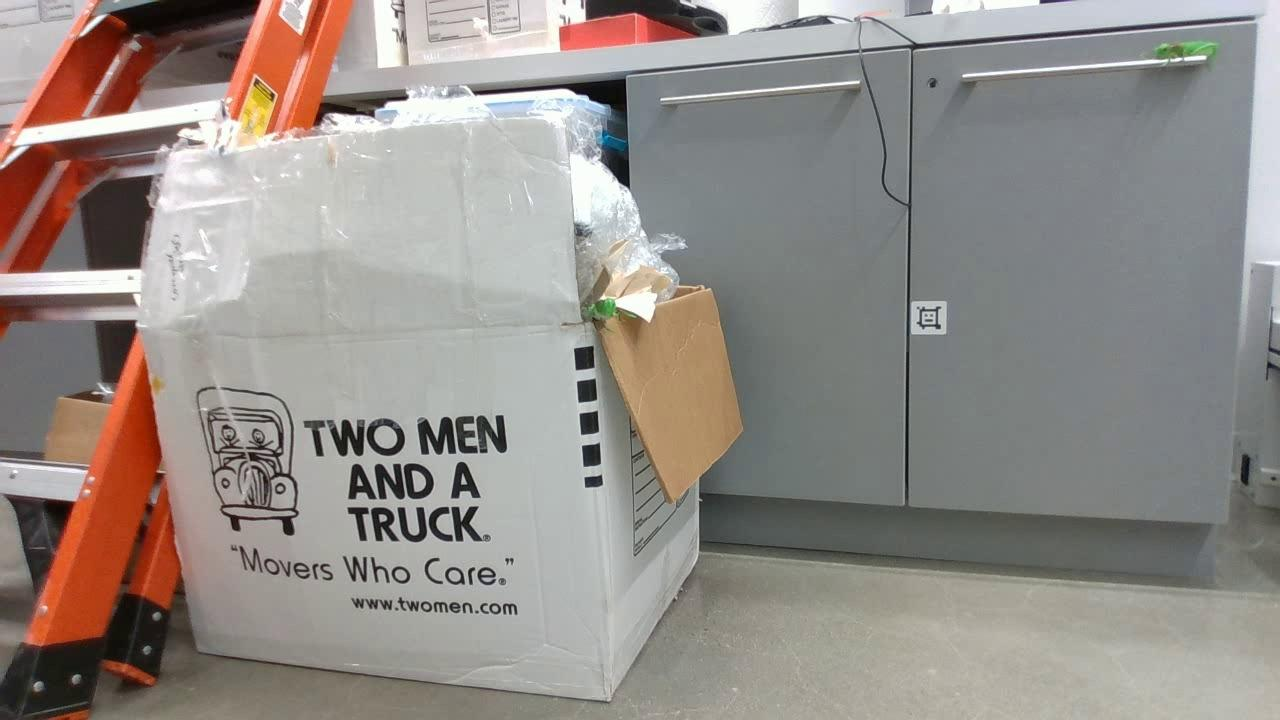grasshopper: (1145, 36, 1226, 63), (579, 296, 628, 325)
